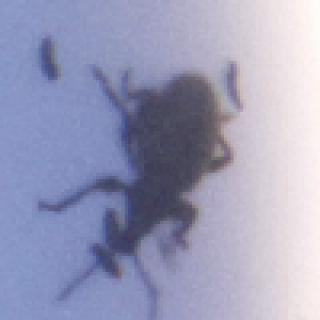bvw: (35, 61, 234, 320)
